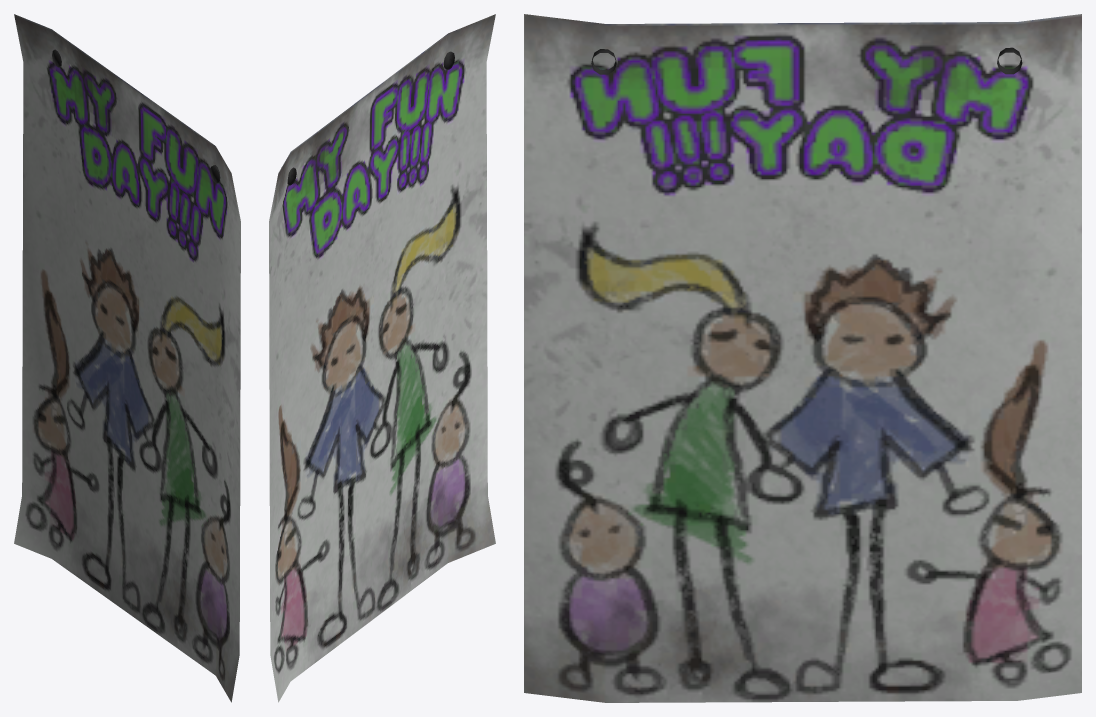
The model's file is drawingfunday11_reference_001.fbx.
3 views of the same model, side by side, from view 1: azimuth 30°, elevation 25°; view 2: azimuth 150°, elevation 25°; view 3: azimuth 270°, elevation 25° (orthographic). The views are drawn at different scales.
Visible parts, largest first — view 1: drawingfunday11_reference.001; view 2: drawingfunday11_reference.001; view 3: drawingfunday11_reference.001.
Part boxes in pixels (<box>): drawingfunday11_reference.001: <box>14,14,240,702</box>; drawingfunday11_reference.001: <box>269,14,495,702</box>; drawingfunday11_reference.001: <box>524,14,1081,702</box>.
Size of the model in its own units: 1.39 by 30.27 by 22.54.
